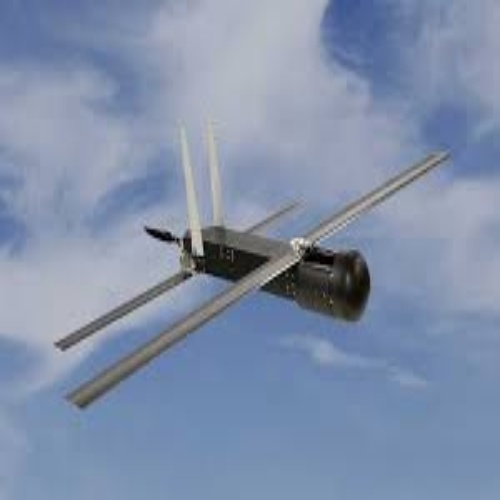uav282: (50, 118, 458, 411)
